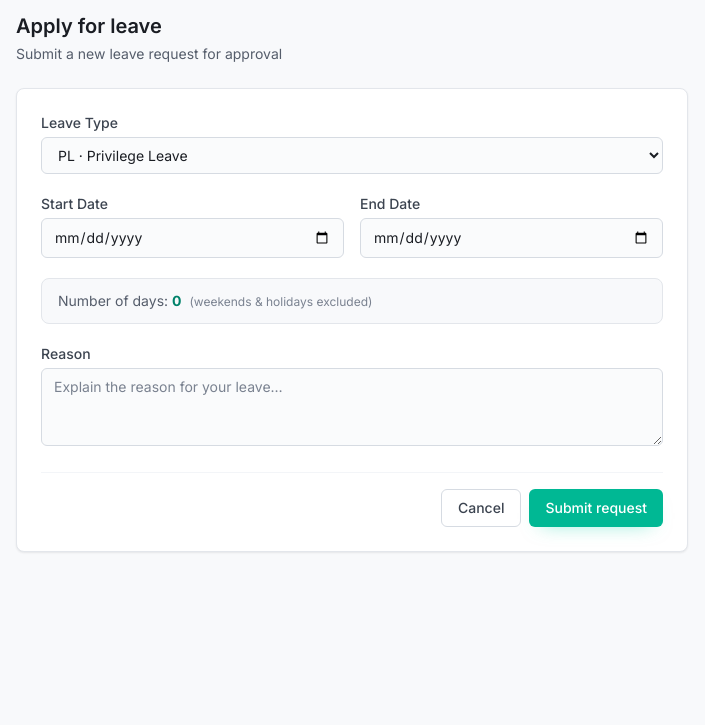
ApplyLeavePage - HPE Holiday to Use › explains the absence of entitlements instead of offering a dead dropdown
Select "CO · Compensatory Off" in the dropdown labelled "Leave Type". click: (352, 156)
box: [41,137,663,174]
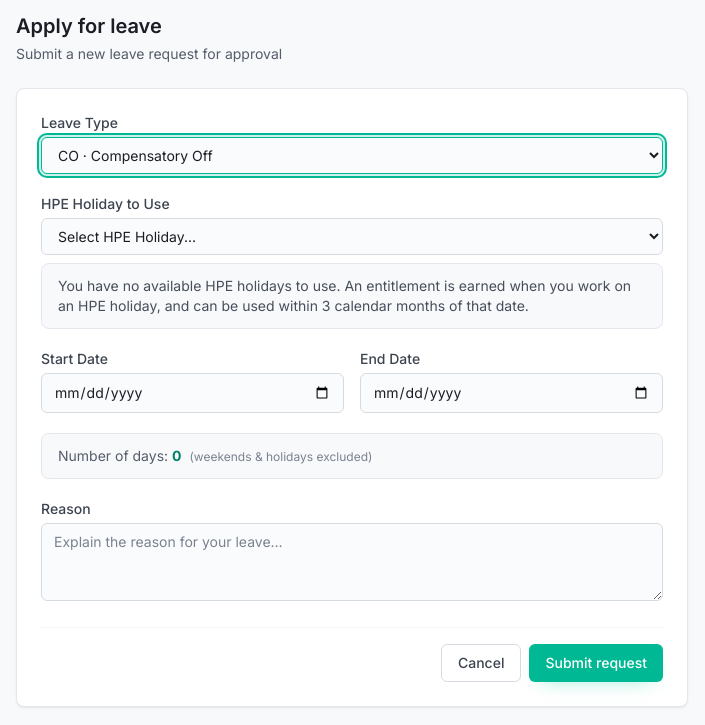
Expected: the text "no available HPE holidays" is shown, [58,277,631,314]
